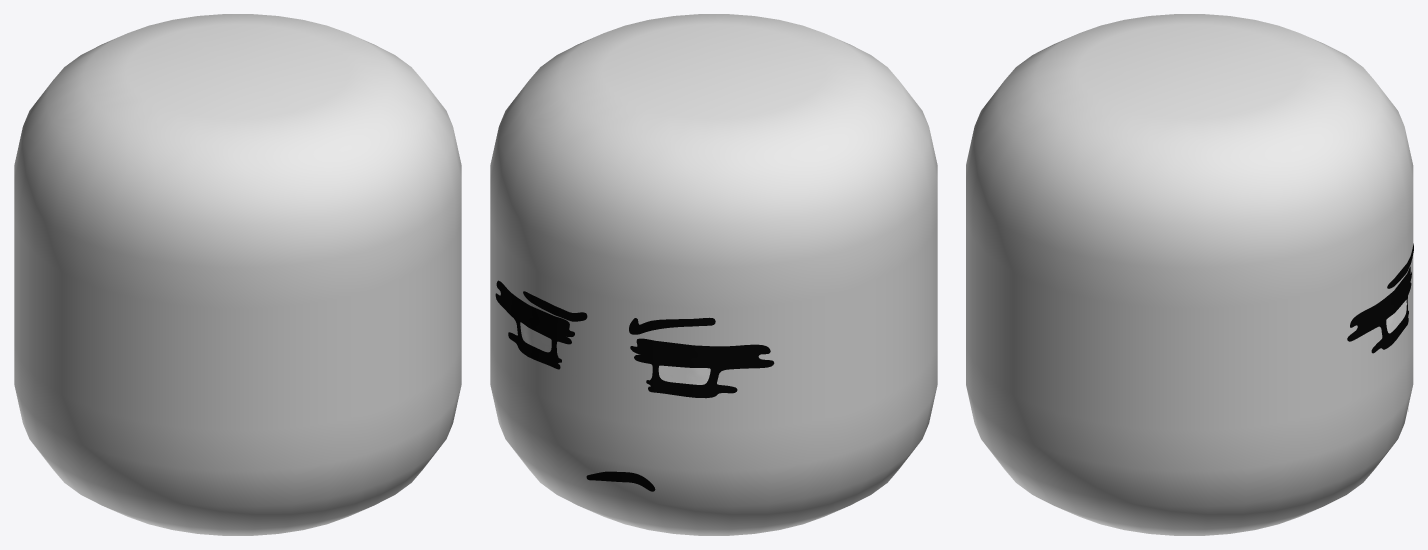
The model's file is 23-Confused-Tired-Face-full.glb.
3 views of the same model, side by side, from view 1: azimuth 30°, elevation 25°; view 2: azimuth 150°, elevation 25°; view 3: azimuth 270°, elevation 25° (orthographic).
Parts seen in each view (by area): view 1: 23-Confused-Tired-Face-full; view 2: 23-Confused-Tired-Face-full; view 3: 23-Confused-Tired-Face-full.
Part boxes in pixels (x1,y1,x2,y2): 23-Confused-Tired-Face-full: (14, 14, 461, 535); 23-Confused-Tired-Face-full: (490, 14, 937, 535); 23-Confused-Tired-Face-full: (966, 14, 1413, 535).
Bounding box in the file's own units: 1.2 × 1.2 × 1.2.
9 materials, 9 textured.
